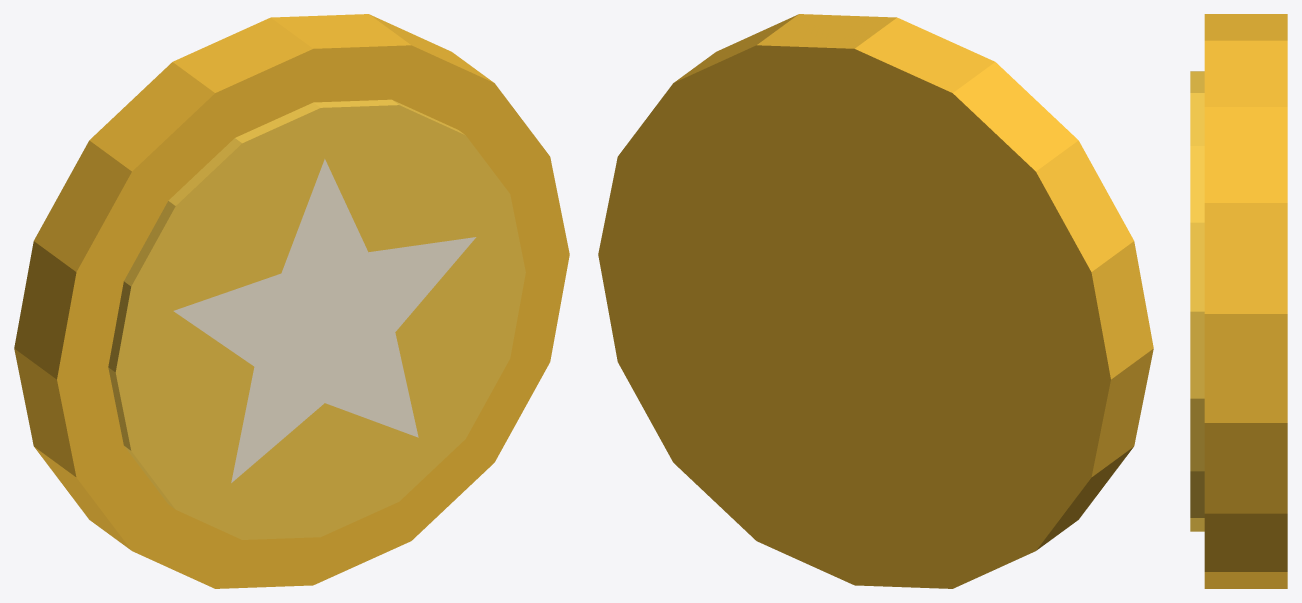
File: 28_star_coin.obj
3 views of the same model, side by side, from view 1: azimuth 30°, elevation 25°; view 2: azimuth 150°, elevation 25°; view 3: azimuth 270°, elevation 25° (orthographic). The views are drawn at different scales.
Parts seen in each view (by area): view 1: part_0, part_1, part_2; view 2: part_0; view 3: part_0, part_1.
Boxes of the visible parts, x1,y1,x2,y2 form: part_0: [14, 14, 569, 588]; part_1: [108, 99, 525, 539]; part_2: [173, 159, 476, 482]; part_0: [598, 14, 1153, 588]; part_0: [1204, 14, 1287, 588]; part_1: [1190, 71, 1204, 531].
Size of the model in its own units: 0.9 by 0.9 by 0.165.
